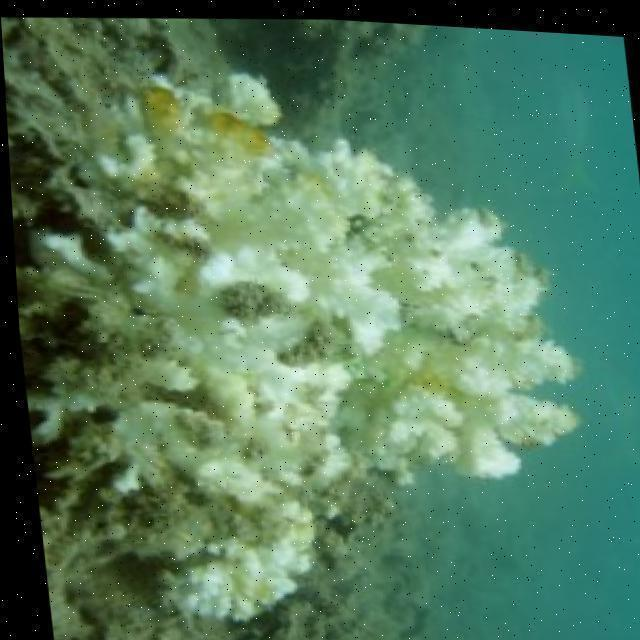Bleached Coral: (53, 42, 602, 640)
